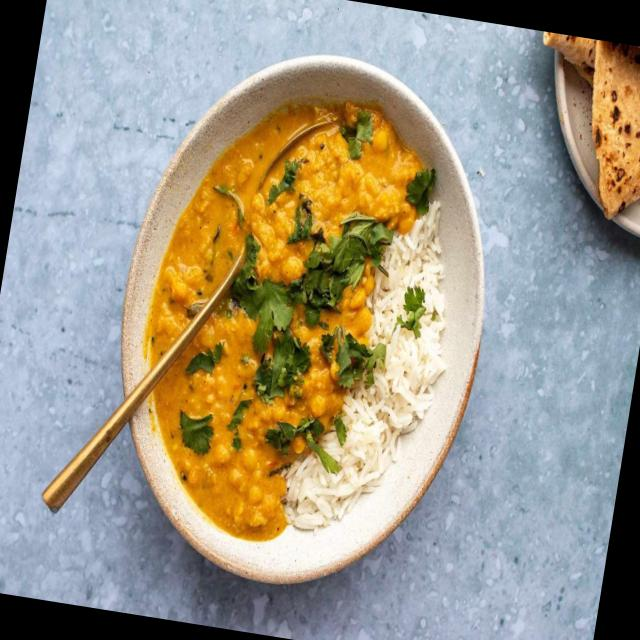dal: (148, 103, 432, 539)
rice: (287, 213, 448, 523)
